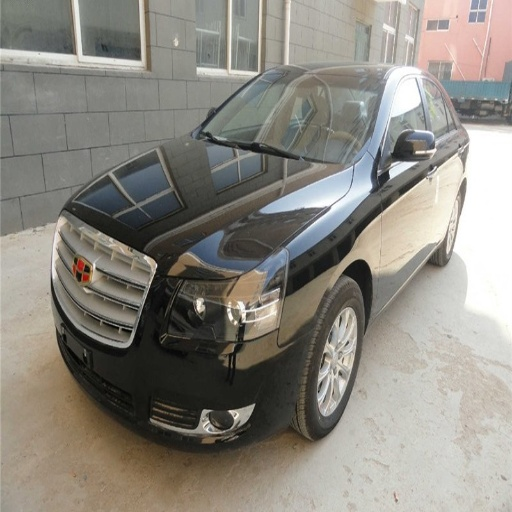front_bumper: (91, 297, 299, 443), (54, 254, 135, 370)
front_glass: (197, 67, 384, 164)
front_left_door: (380, 72, 435, 286)
